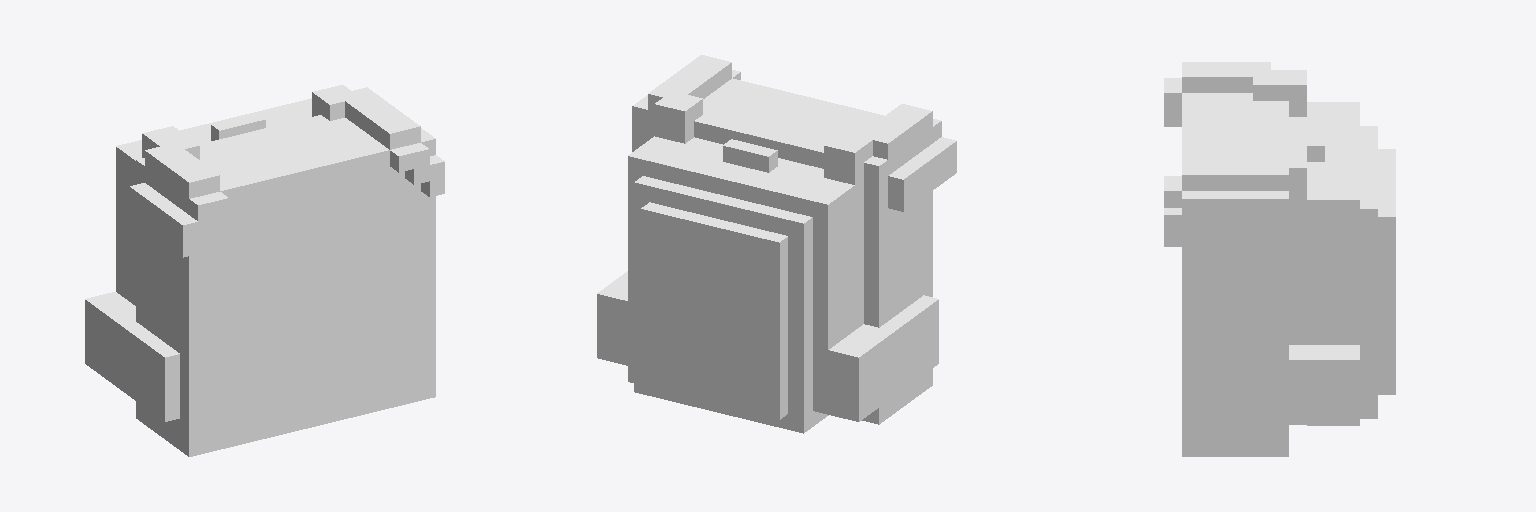
The model's file is civil1-5.obj.
The picture shows the model from 3 angles: view 1: azimuth 30°, elevation 25°; view 2: azimuth 150°, elevation 25°; view 3: azimuth 270°, elevation 25°; orthographic projection.
Visible parts, largest first — view 1: object 1; view 2: object 1; view 3: object 1.
Boxes of the visible parts, box(x1,y1,x2,y2) form: object 1: box(85, 85, 444, 456); object 1: box(597, 55, 956, 433); object 1: box(1164, 62, 1395, 456).
Size of the model in its own units: 1.7 by 1.7 by 1.3.